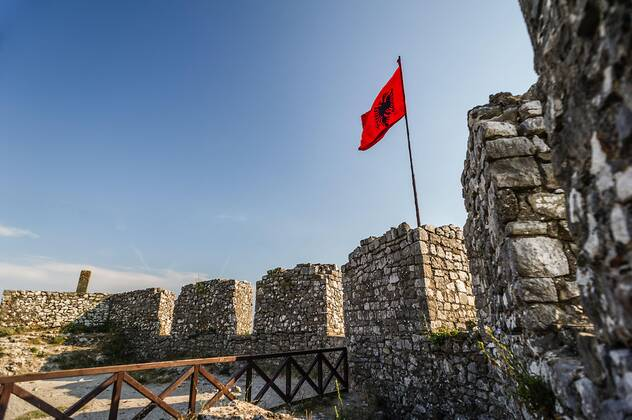Flag: (357, 67, 408, 151)
